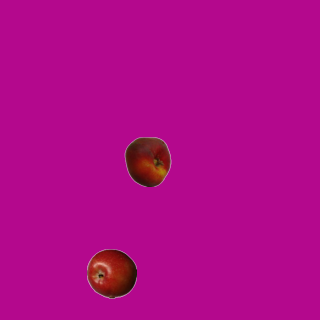Apple Braeburn: (86, 248, 136, 298)
Nectarine Flat: (122, 136, 172, 186)
